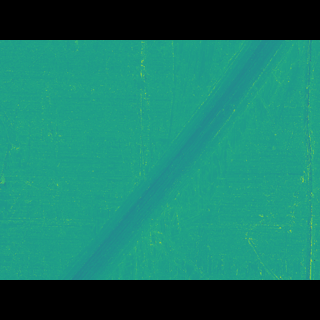Loch: (57, 69, 299, 250), (292, 69, 318, 250)
